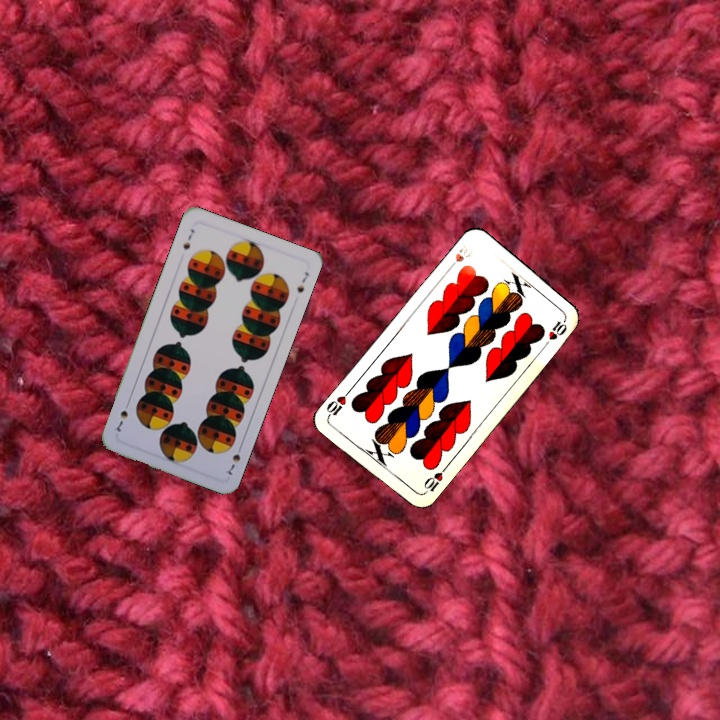H10: (419, 463, 449, 497), (444, 242, 475, 273)
S7: (222, 441, 245, 480), (179, 225, 197, 252)
